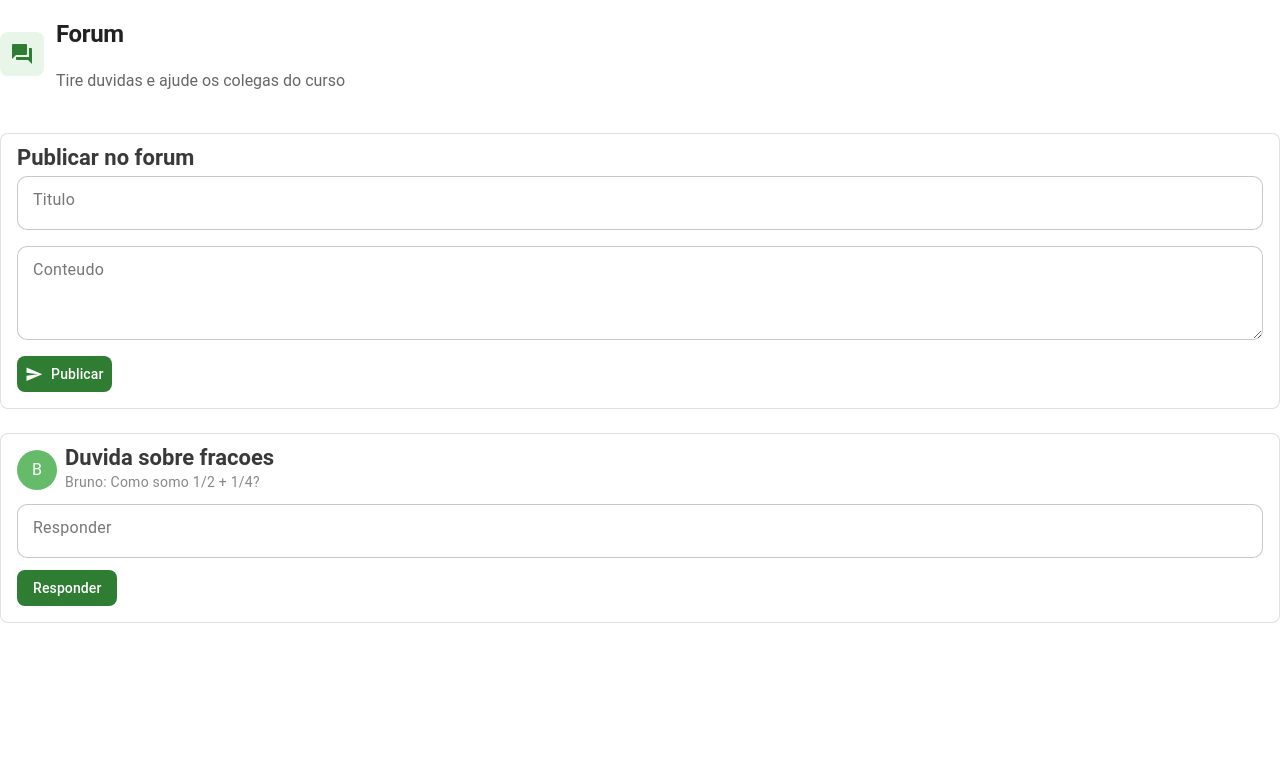
Test case: Aluno interage no forum de um curso › Quando publico um novo post, Entao ele aparece na listagem
Type "Outra duvida" into the field with test id "novo-post-titulo". click: (640, 203)
box: 17,176 -> 1263,230
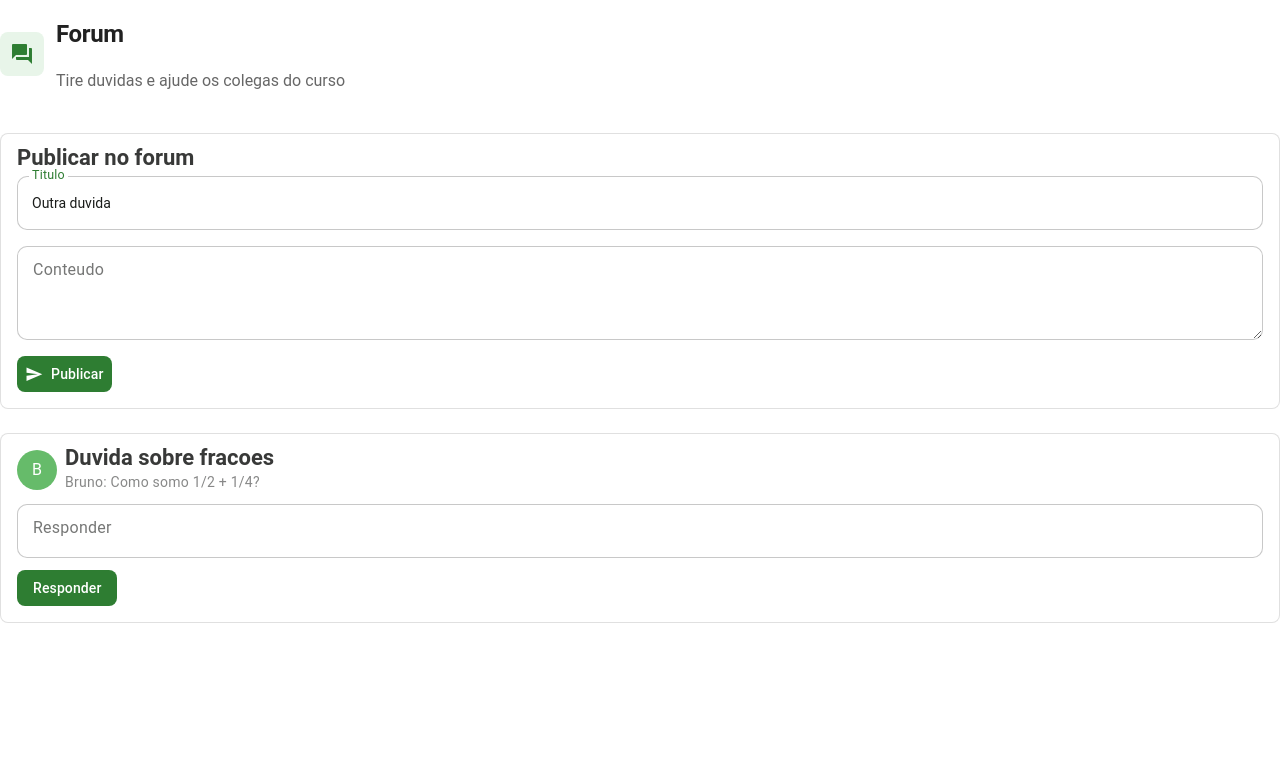
Type "Conteudo" into the text box with test id "novo-post-conteudo". click: (640, 293)
box: 17,246 -> 1263,340
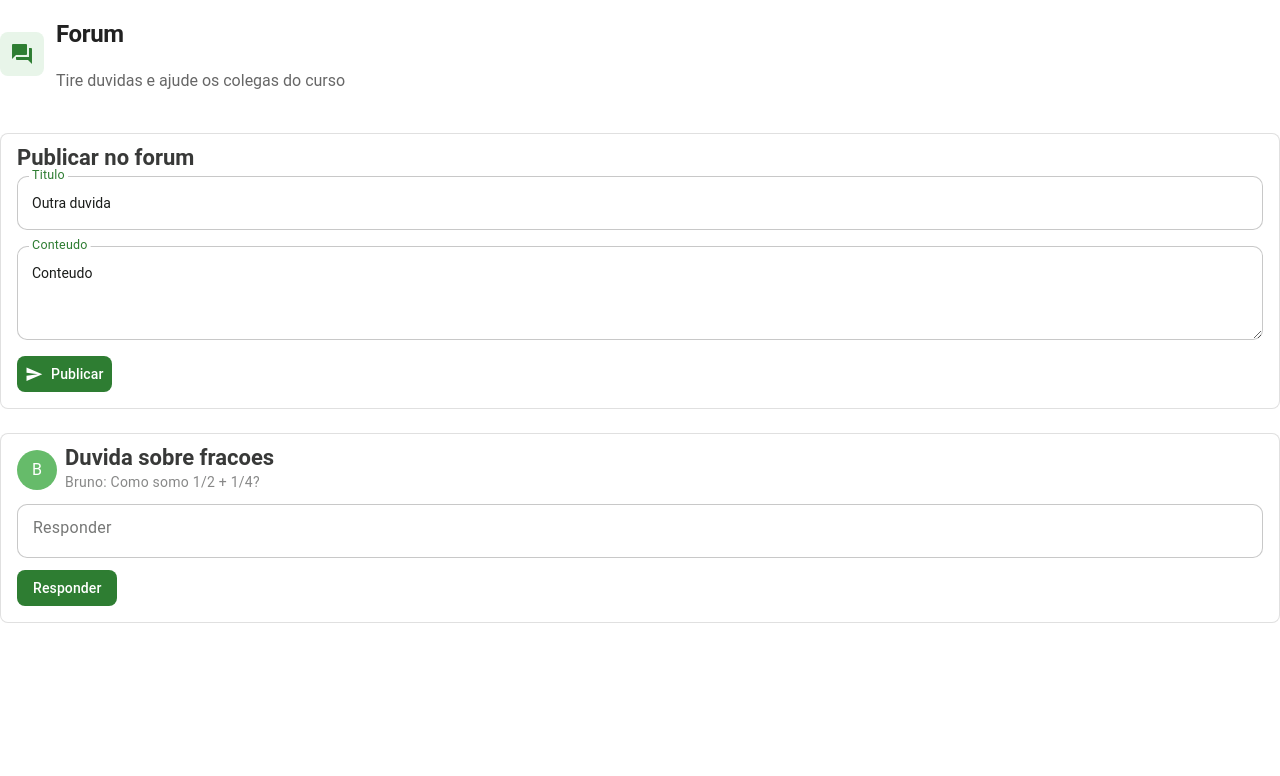
Click the button with test id "publicar-post". click: (64, 374)
box: 17,356 -> 112,392
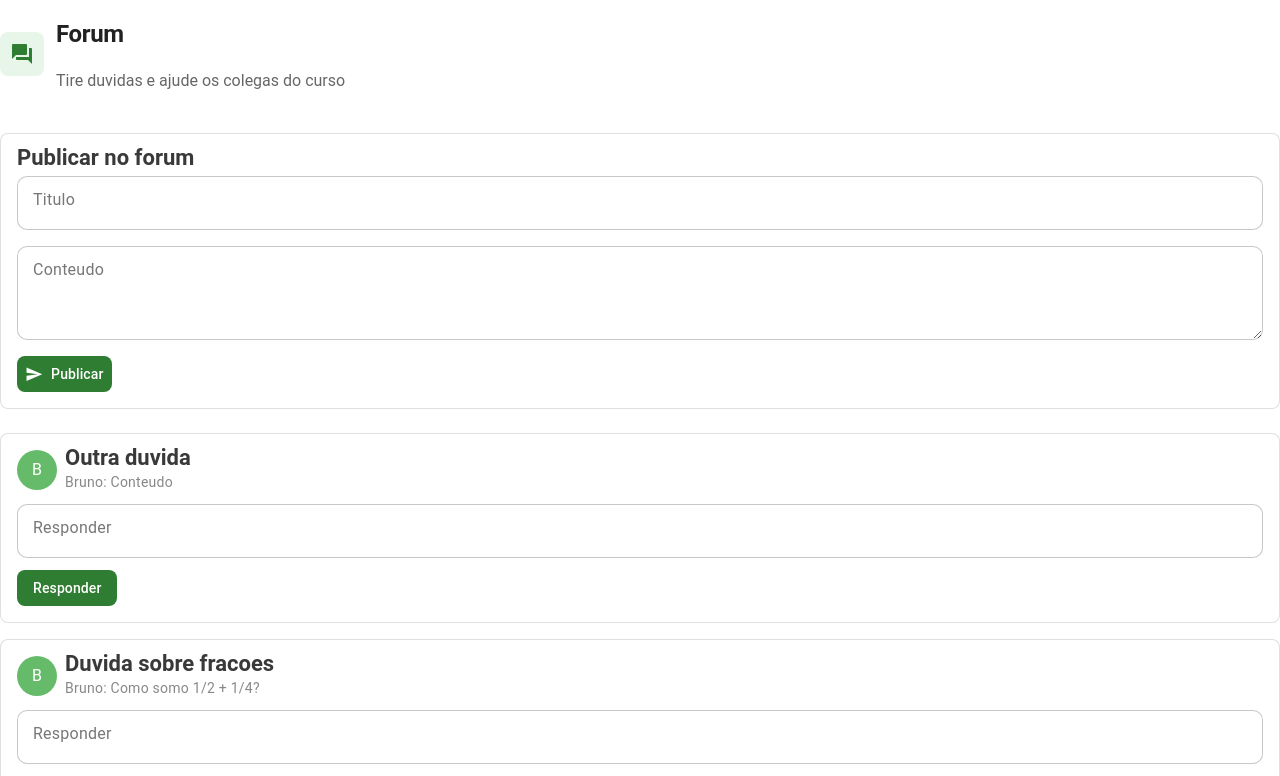
expect the text "Outra duvida" is shown: met, box 65,445 -> 191,470
